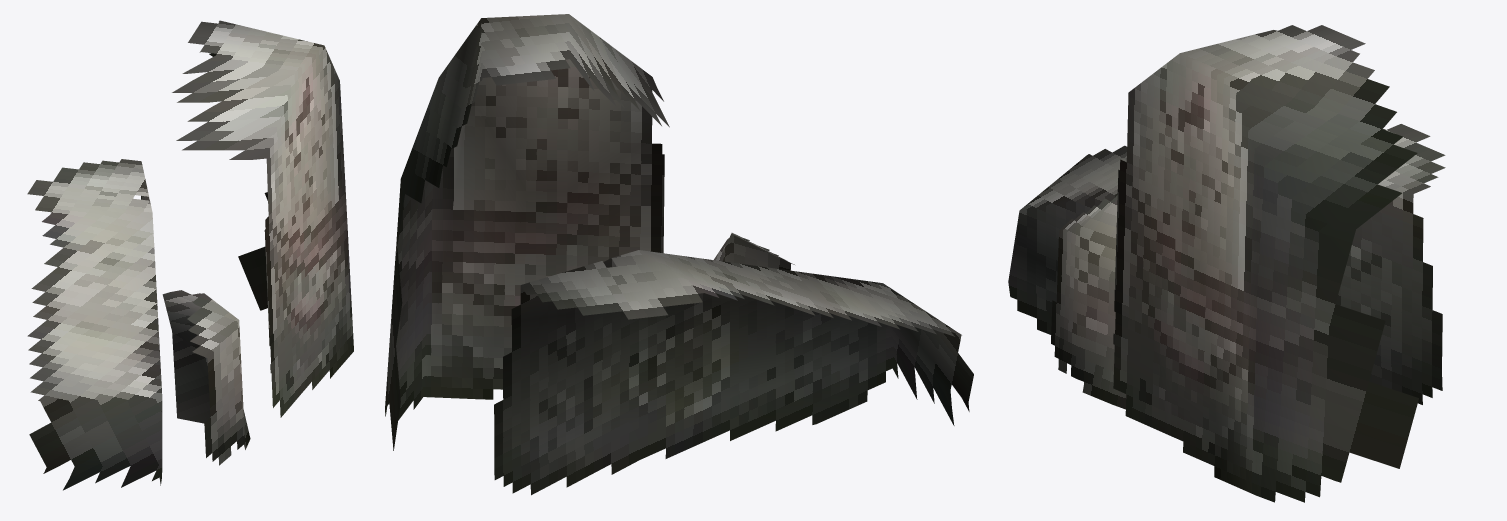
3 views of the same model, side by side, from view 1: azimuth 30°, elevation 25°; view 2: azimuth 150°, elevation 25°; view 3: azimuth 270°, elevation 25° (orthographic). The views are drawn at different scales.
Visible parts, largest first — view 1: 25DBG_Sector01_Zone01_Prop_GroundRock_4, 25DBG_Sector01_Zone01_Prop_GroundRock_1; view 2: 25DBG_Sector01_Zone01_Prop_GroundRock_1, 25DBG_Sector01_Zone01_Prop_GroundRock_4; view 3: 25DBG_Sector01_Zone01_Prop_GroundRock_4, 25DBG_Sector01_Zone01_Prop_GroundRock_1.
Part boxes in pixels (x1,y1,x2,y2): 25DBG_Sector01_Zone01_Prop_GroundRock_4: (162, 20, 353, 465); 25DBG_Sector01_Zone01_Prop_GroundRock_1: (27, 159, 162, 490); 25DBG_Sector01_Zone01_Prop_GroundRock_1: (494, 250, 973, 495); 25DBG_Sector01_Zone01_Prop_GroundRock_4: (385, 14, 794, 450); 25DBG_Sector01_Zone01_Prop_GroundRock_4: (1051, 25, 1418, 502); 25DBG_Sector01_Zone01_Prop_GroundRock_1: (1008, 124, 1445, 404).
Size of what is drawn, in the model's own units: 0.9066 by 0.7189 by 0.7907.
Materials: 1 (1 with a texture image).
